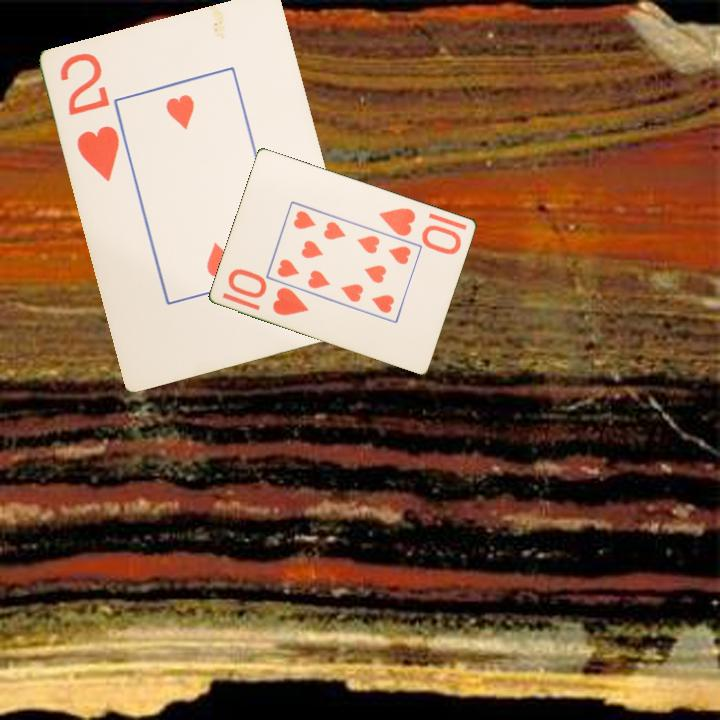10h: (375, 204, 465, 257), (225, 266, 312, 318)
2h: (56, 49, 123, 185)
